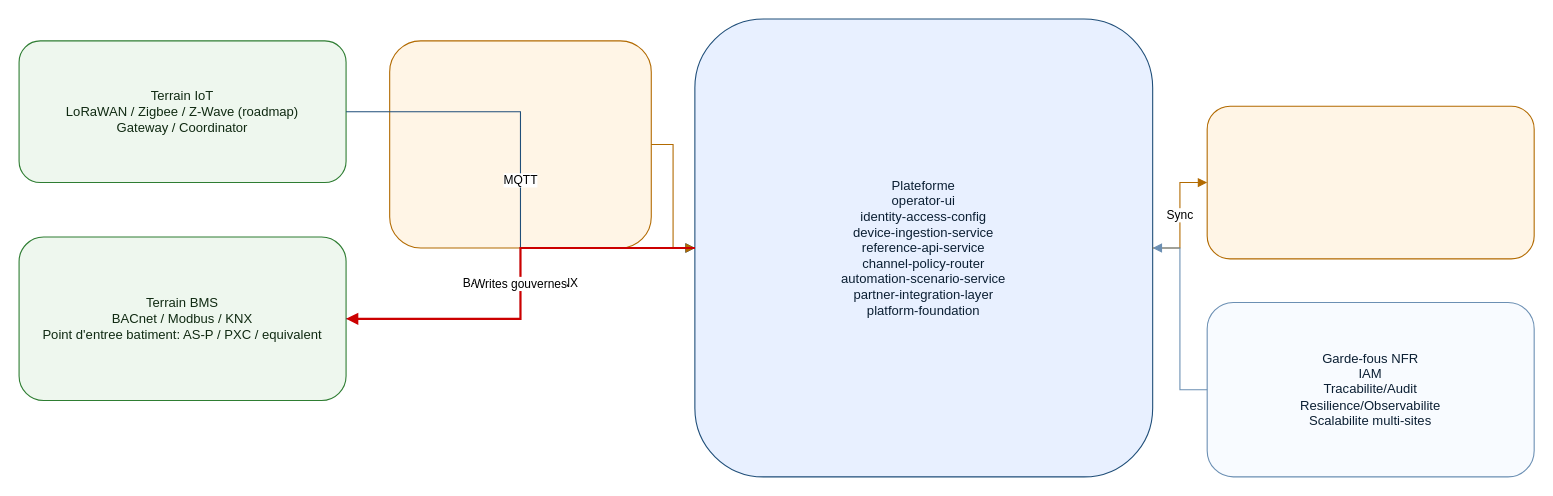
Some shapes in this 1553 by 496 pixel diagram are drawn without their labels. Each missing label, with the box of its shape:
Digital Twin Tandem Connect + Tandem Scope actuel: telemetrie + contexte: (1206, 105, 1534, 259)
Partenaires Schneider Siemens Legrand roadmap Autres roadmap: (389, 40, 651, 248)
